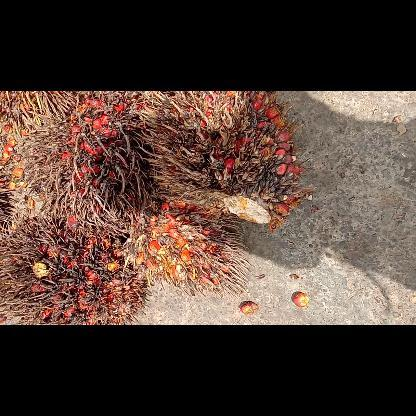Terlalu masak: (140, 91, 320, 231), (19, 91, 168, 247), (0, 208, 153, 324), (120, 196, 256, 302)
